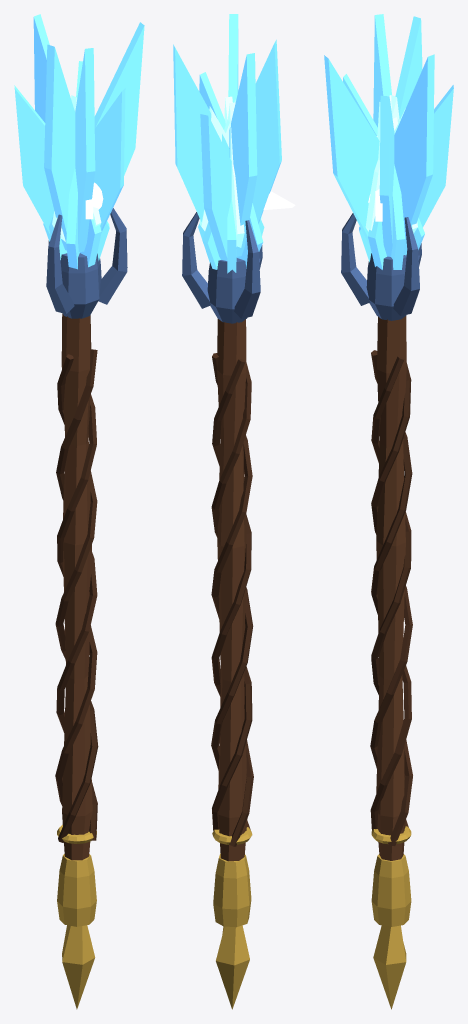
The model's file is staff_starblaze.glb.
The picture shows the model from 3 angles, left to right: view 1: azimuth 90°, elevation 25°; view 2: azimuth 150°, elevation 25°; view 3: azimuth 270°, elevation 25°; orthographic projection.
Visible parts, largest first — view 1: Sz_Shaft, Sz_Flame6, Sz_Flame5, Sz_Flame0, Sz_Twist1, Sz_Flame1, Sz_Twist2, Sz_Flame2, Sz_Twist0, Sz_Ferrule, Sz_Collar, Sz_Flame4 (+4 smaller); view 2: Sz_Shaft, Sz_Flame4, Sz_Flame6, Sz_Flame0, Sz_Flame5, Sz_Twist1, Sz_Twist0, Sz_Twist2, Sz_Ferrule, Sz_Collar, Sz_Spear, Sz_Flame2 (+7 smaller); view 3: Sz_Shaft, Sz_Flame2, Sz_Flame4, Sz_Twist0, Sz_Twist2, Sz_Twist1, Sz_Ferrule, Sz_Flame0, Sz_Flame5, Sz_Flame6, Sz_Flame3, Sz_Collar (+6 smaller).
Part boxes in pixels (bbox=[...]): Sz_Shaft: bbox=[61, 313, 92, 860]; Sz_Flame6: bbox=[44, 44, 75, 250]; Sz_Flame5: bbox=[14, 85, 109, 260]; Sz_Flame0: bbox=[75, 48, 95, 251]; Sz_Twist1: bbox=[55, 354, 98, 842]; Sz_Flame1: bbox=[43, 88, 125, 241]; Sz_Twist2: bbox=[56, 349, 97, 840]; Sz_Flame2: bbox=[49, 22, 144, 259]; Sz_Twist0: bbox=[55, 394, 97, 805]; Sz_Ferrule: bbox=[57, 854, 96, 926]; Sz_Collar: bbox=[60, 253, 101, 318]; Sz_Flame4: bbox=[33, 14, 101, 267]; Sz_Shaft: bbox=[217, 319, 247, 861]; Sz_Flame4: bbox=[173, 44, 264, 235]; Sz_Flame6: bbox=[229, 53, 257, 256]; Sz_Flame0: bbox=[198, 39, 281, 262]; Sz_Flame5: bbox=[200, 114, 231, 260]; Sz_Twist1: bbox=[211, 359, 253, 846]; Sz_Twist0: bbox=[211, 353, 252, 830]; Sz_Twist2: bbox=[211, 362, 253, 829]; Sz_Ferrule: bbox=[213, 853, 251, 927]; Sz_Collar: bbox=[207, 258, 246, 323]; Sz_Spear: bbox=[216, 925, 249, 1009]; Sz_Flame2: bbox=[227, 14, 238, 273]; Sz_Shaft: bbox=[376, 316, 406, 860]; Sz_Flame2: bbox=[324, 55, 379, 246]; Sz_Flame4: bbox=[394, 54, 434, 253]; Sz_Twist0: bbox=[371, 356, 412, 846]; Sz_Twist2: bbox=[370, 350, 412, 830]; Sz_Twist1: bbox=[370, 363, 412, 827]; Sz_Ferrule: bbox=[371, 854, 411, 926]; Sz_Flame0: bbox=[373, 14, 405, 269]; Sz_Flame5: bbox=[359, 85, 453, 262]; Sz_Flame6: bbox=[368, 16, 422, 269]; Sz_Flame3: bbox=[379, 95, 394, 256]; Sz_Collar: bbox=[366, 253, 406, 320].
Bounding box in the file's own units: 0.31 × 2.6 × 0.313.
